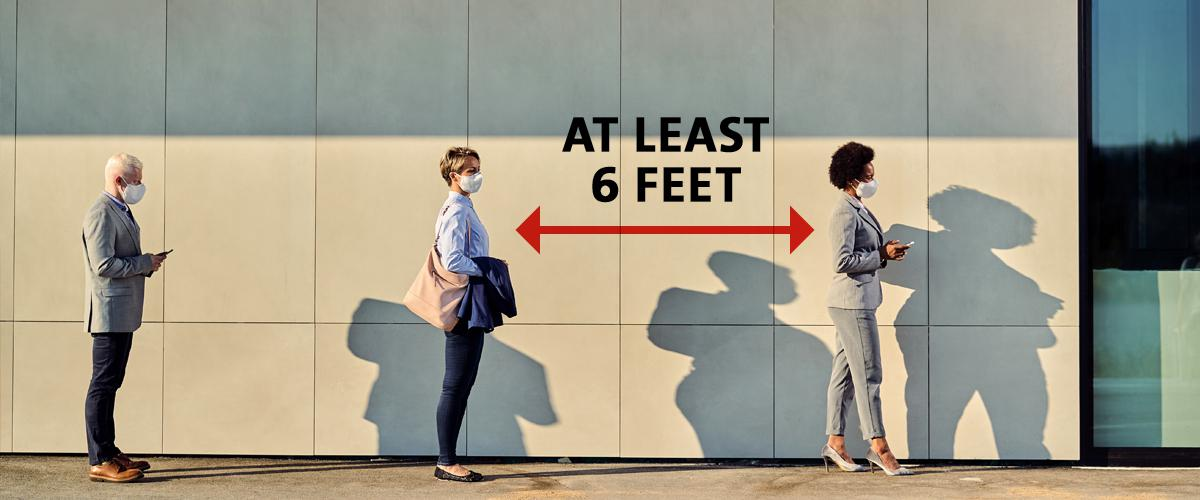with_mask: (826, 140, 881, 205), (439, 144, 489, 198), (105, 153, 148, 209)
